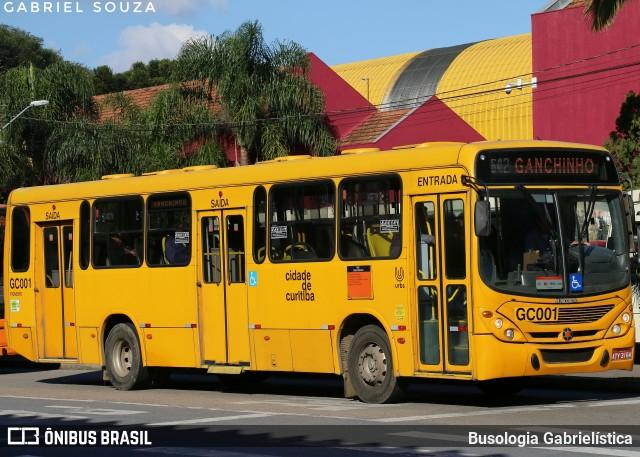GANCHINHO: (510, 154, 600, 179)
